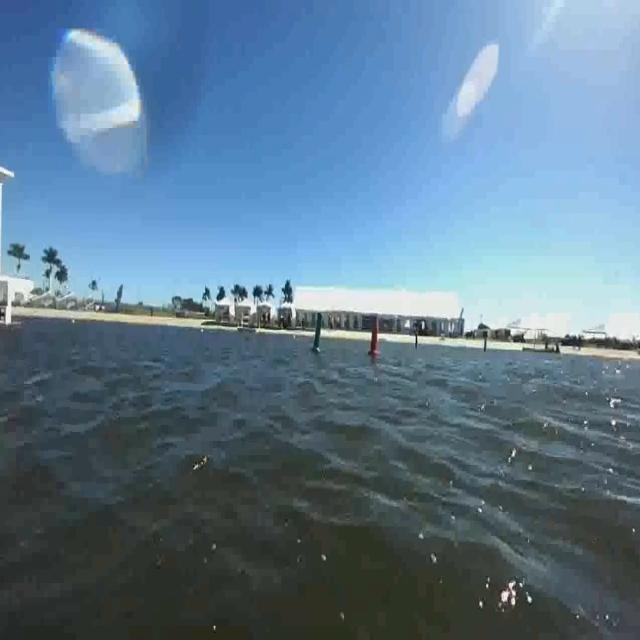green-column-buoy: (310, 311, 326, 355)
red-column-buoy: (367, 314, 386, 359)
